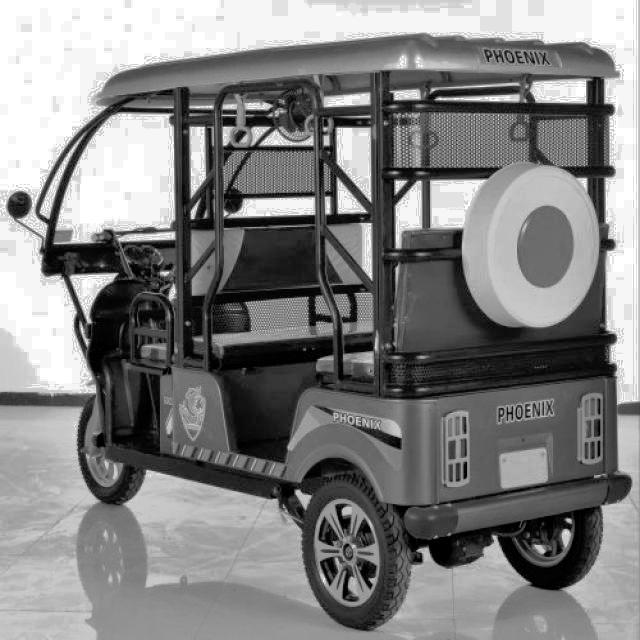Toto: (46, 33, 638, 623)
